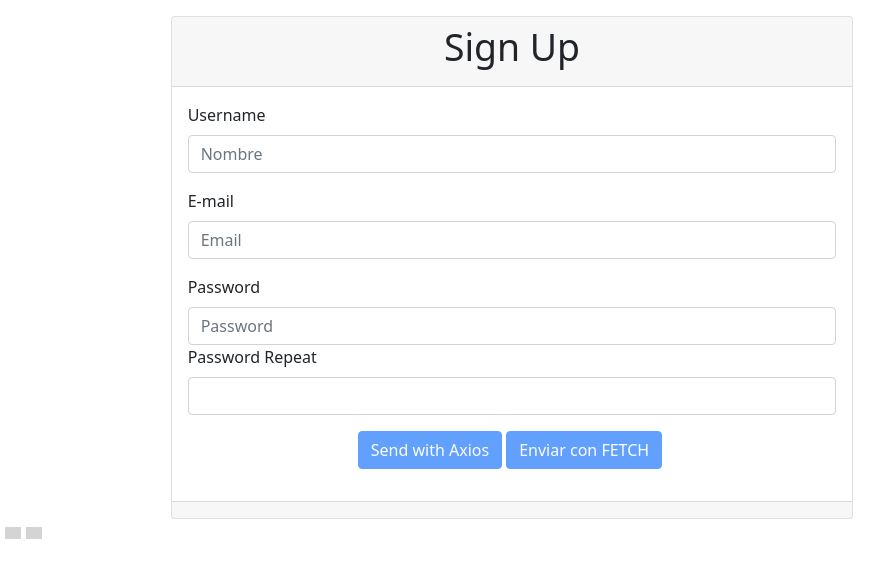
Scenario: Sign Up Page › interactions › should verify that password field has an error
Type "Carlos" into the field with test id "username".
click(512, 154); type("Carlos")  # box [188, 135, 836, 173]
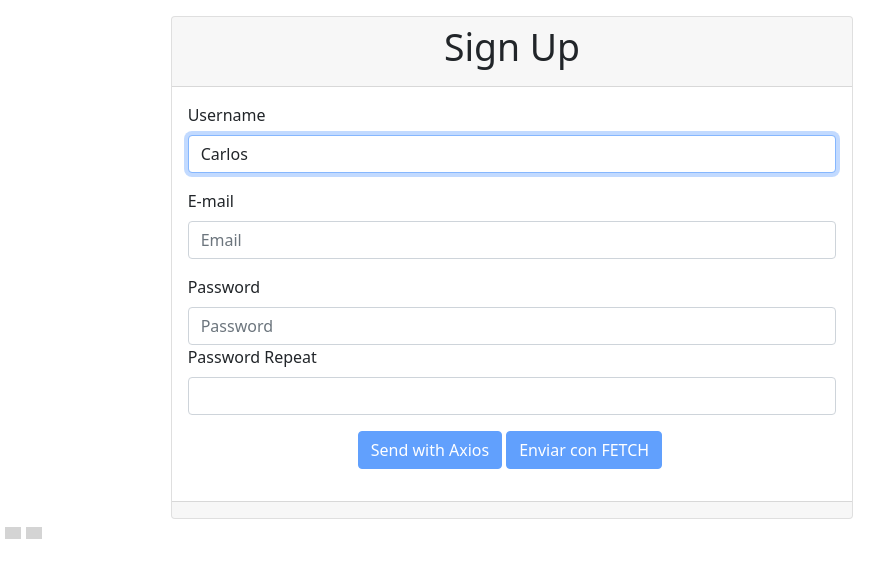
Type "carloscpu83@gmail.com" into the field with test id "email".
click(512, 240); type("carloscpu83@gmail.com")  # box [188, 221, 836, 259]
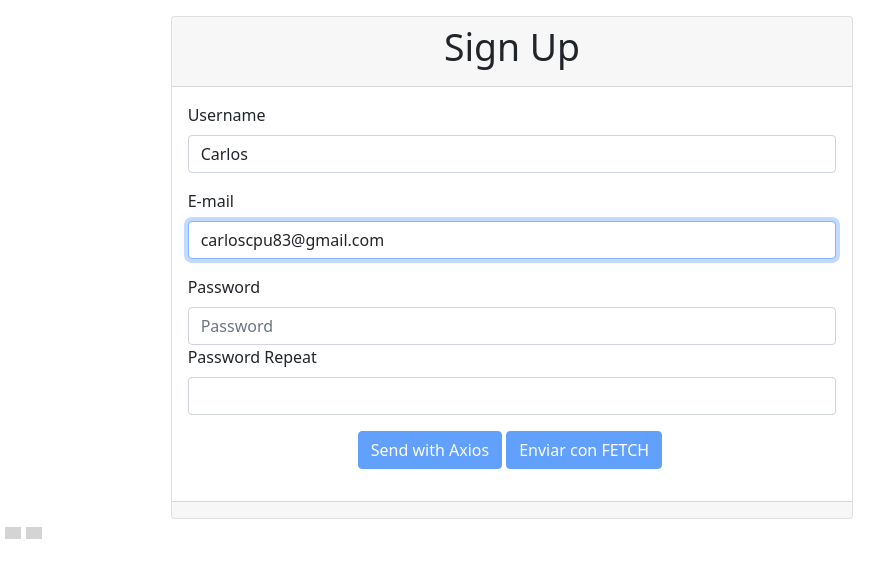
Type "M1pass" into the password field with test id "password".
click(512, 326); type("M1pass")  # box [188, 307, 836, 345]
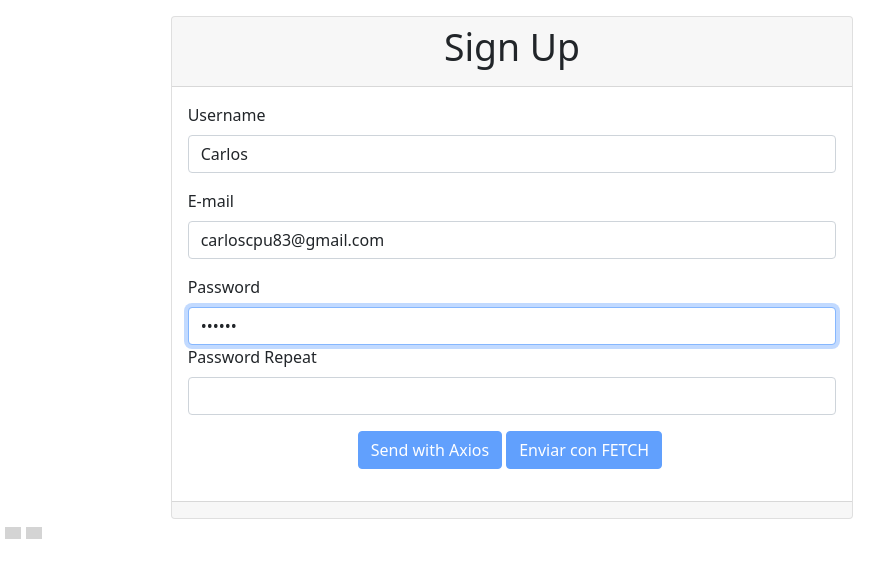
Type "M1pass" into the password field with test id "repeatPassword".
click(512, 396); type("M1pass")  # box [188, 377, 836, 415]
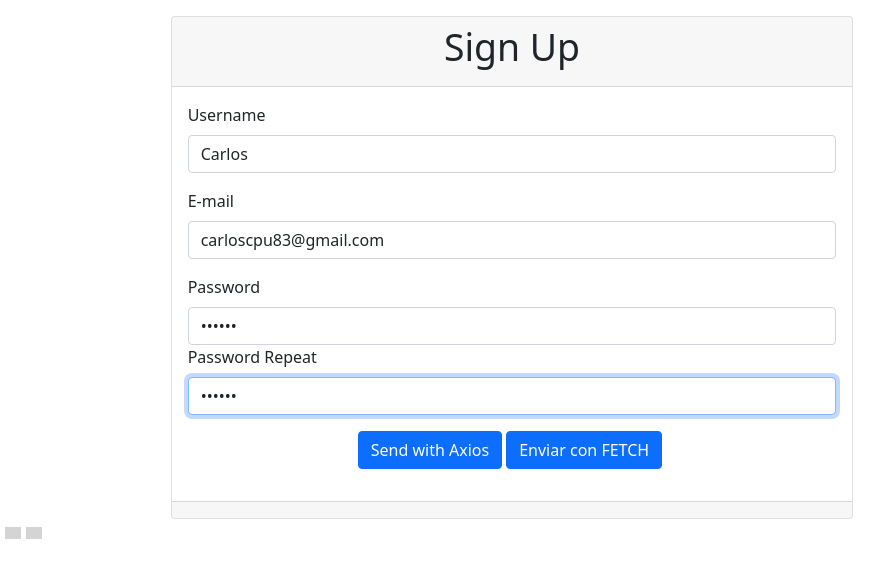
Click the button with test id "sendButton".
click(430, 450)  # box [358, 431, 502, 469]
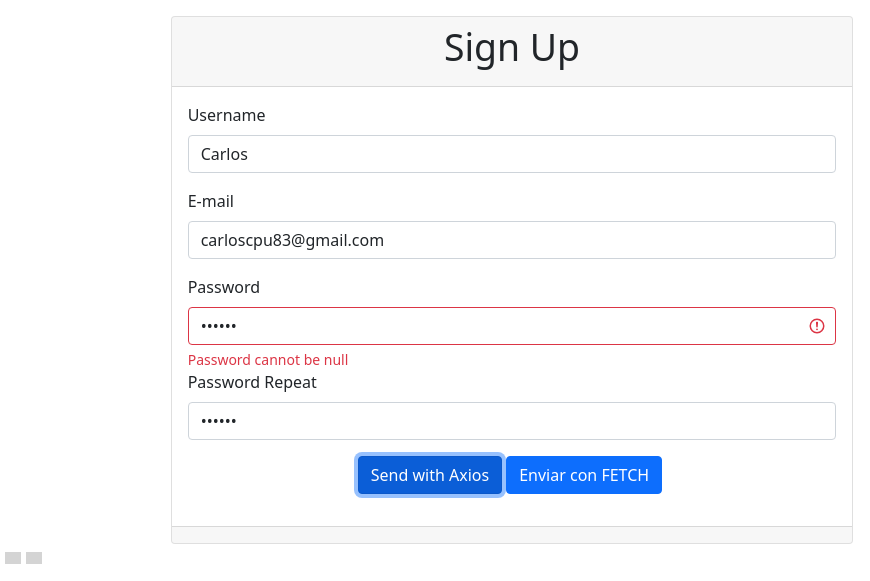
Expected: the text "Password cannot be null" is shown, [188, 350, 348, 369]
